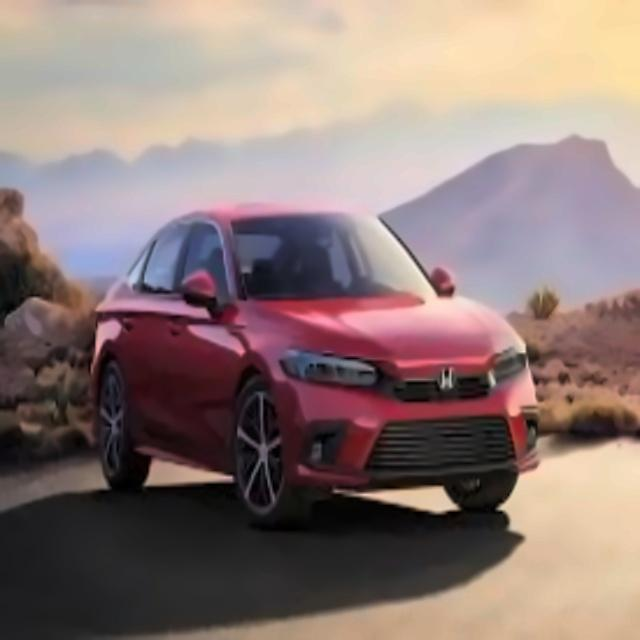Car hood: (236, 291, 533, 375)
Driver-s door - -F-R-: (167, 209, 243, 459)
Fender - -F-R-: (216, 327, 287, 491)
Fender - -R-R-: (96, 306, 138, 450)
Front bumper: (265, 379, 550, 501)
Headlight - -L-: (483, 334, 540, 393)
Headlight - -R-: (278, 341, 388, 395)
Passenger-s door - -R-R-: (114, 203, 181, 447)
Rear bumper: (77, 339, 108, 457)
Side bumper - -R-: (117, 420, 244, 483)
Side mirror - -L-: (423, 260, 466, 301)
Side mirror - -R-: (175, 266, 229, 324)
